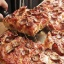pepperoni: (30, 50, 58, 63), (19, 13, 31, 27)
pizza: (1, 35, 64, 64), (7, 8, 44, 33)
